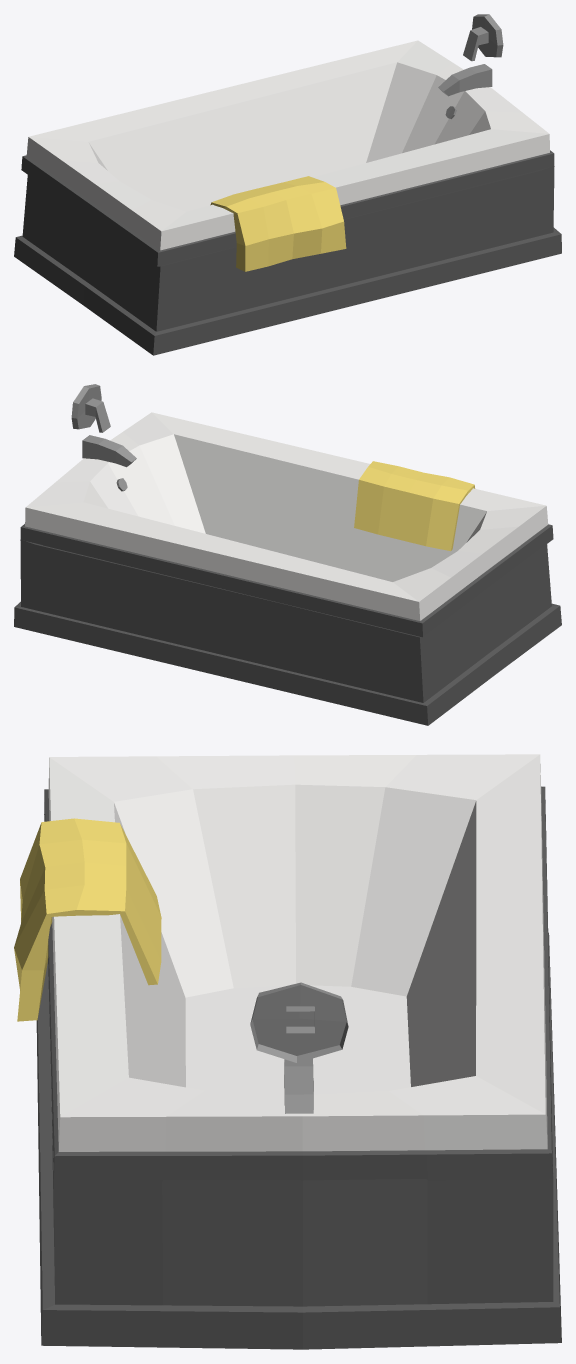
The model's file is Bath_2.fbx.
3 renders of one model, top to bottom at view 1: azimuth 30°, elevation 25°; view 2: azimuth 150°, elevation 25°; view 3: azimuth 270°, elevation 25°, orthographic. The views are drawn at different scales.
Visible parts, largest first — view 1: Bath_2; view 2: Bath_2; view 3: Bath_2.
Boxes of the visible parts, x1,y1,x2,y2 form: Bath_2: [14, 14, 561, 355]; Bath_2: [14, 384, 561, 725]; Bath_2: [14, 754, 561, 1349].
Bounding box in the file's own units: 340 × 204 × 148.
